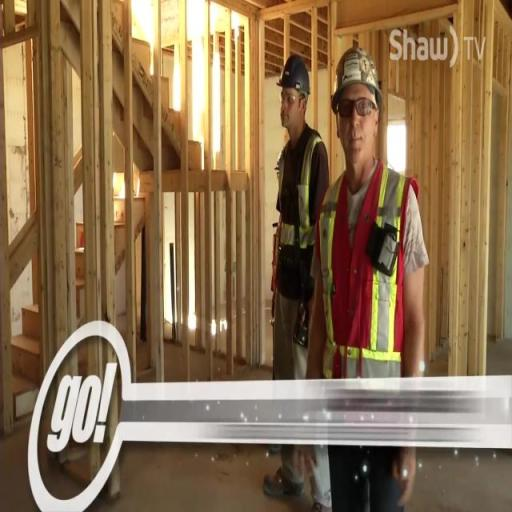helmet: (327, 38, 391, 118), (272, 47, 315, 109)
vest: (308, 158, 438, 383), (267, 130, 335, 304)
